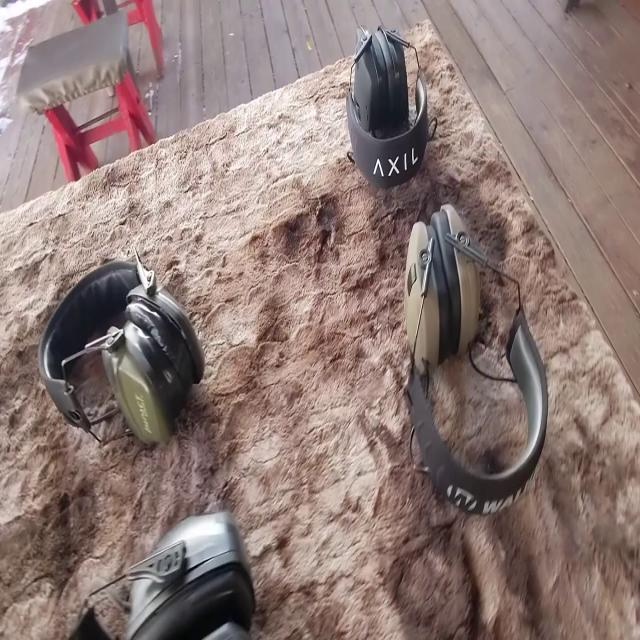earmuff: (124, 503, 260, 640), (96, 316, 190, 458), (123, 281, 207, 395), (430, 200, 482, 369), (402, 217, 453, 387), (349, 12, 389, 146), (374, 13, 412, 143)
